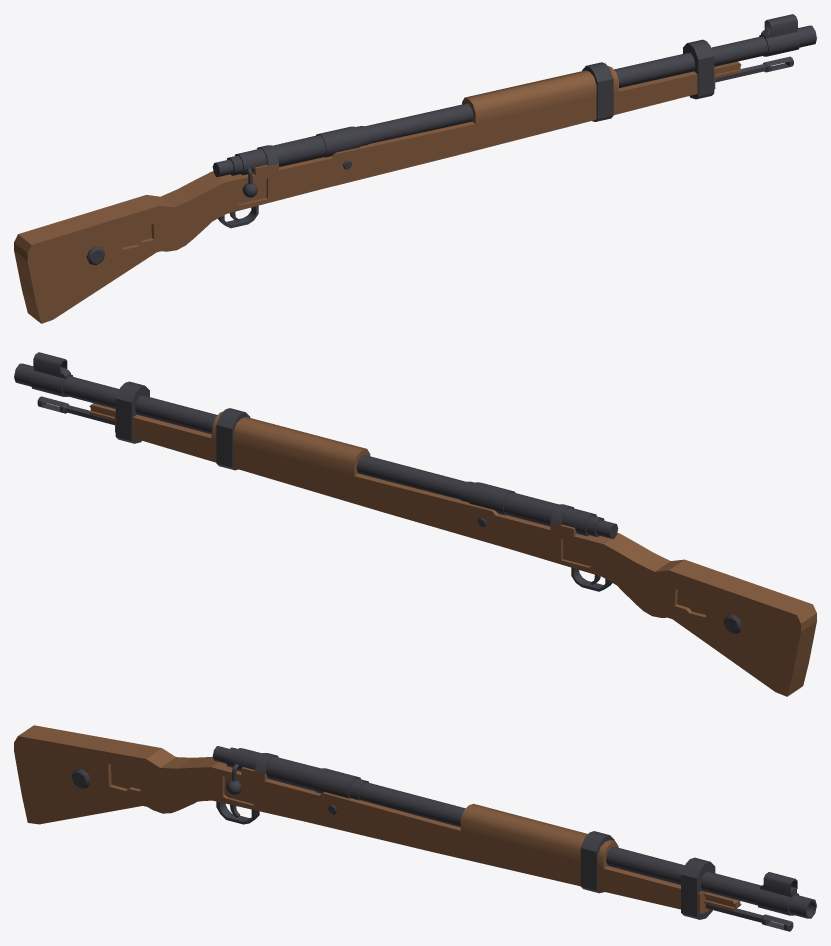
Rendered from xxx.fbx.
3 views of the same model, one above another, from view 1: azimuth 30°, elevation 25°; view 2: azimuth 150°, elevation 25°; view 3: azimuth 330°, elevation 25° (orthographic). The views are drawn at different scales.
Parts seen in each view (by area): view 1: polySurface14, polySurface12, polySurface13, polySurface11, pCube13, pCube12, polySurface9, pCylinder12; view 2: polySurface14, polySurface12, polySurface13, polySurface11, pCube13, pCube12, polySurface9, pCylinder12; view 3: polySurface14, polySurface12, polySurface11, polySurface13, pCube13, pCube12, polySurface9, pCylinder12, pCube9, pCube10.
Boxes of the visible parts, x1,y1,x2,y2 form: polySurface14: [14, 61, 741, 323]; polySurface12: [614, 25, 816, 87]; polySurface13: [212, 135, 325, 177]; polySurface11: [364, 103, 473, 143]; pCube13: [683, 39, 714, 99]; pCube12: [582, 62, 613, 121]; polySurface9: [316, 126, 369, 157]; pCylinder12: [715, 56, 793, 82]; polySurface14: [89, 403, 816, 696]; polySurface12: [14, 363, 217, 434]; polySurface13: [503, 492, 618, 539]; polySurface11: [356, 455, 465, 499]; pCube13: [115, 381, 149, 443]; pCube12: [216, 408, 250, 470]; polySurface9: [460, 481, 515, 515]; pCylinder12: [37, 396, 114, 425]; polySurface14: [14, 725, 741, 913]; polySurface12: [606, 846, 816, 918]; polySurface11: [359, 782, 465, 827]; polySurface13: [212, 746, 320, 791]; pCube13: [681, 857, 715, 919]; pCube12: [580, 831, 614, 893]; polySurface9: [314, 768, 368, 800]; pCylinder12: [705, 904, 793, 931]; pCube9: [763, 872, 797, 893]; pCube10: [216, 801, 259, 824].
Size of the model in its own units: 88.24 by 14.4 by 5.87.
